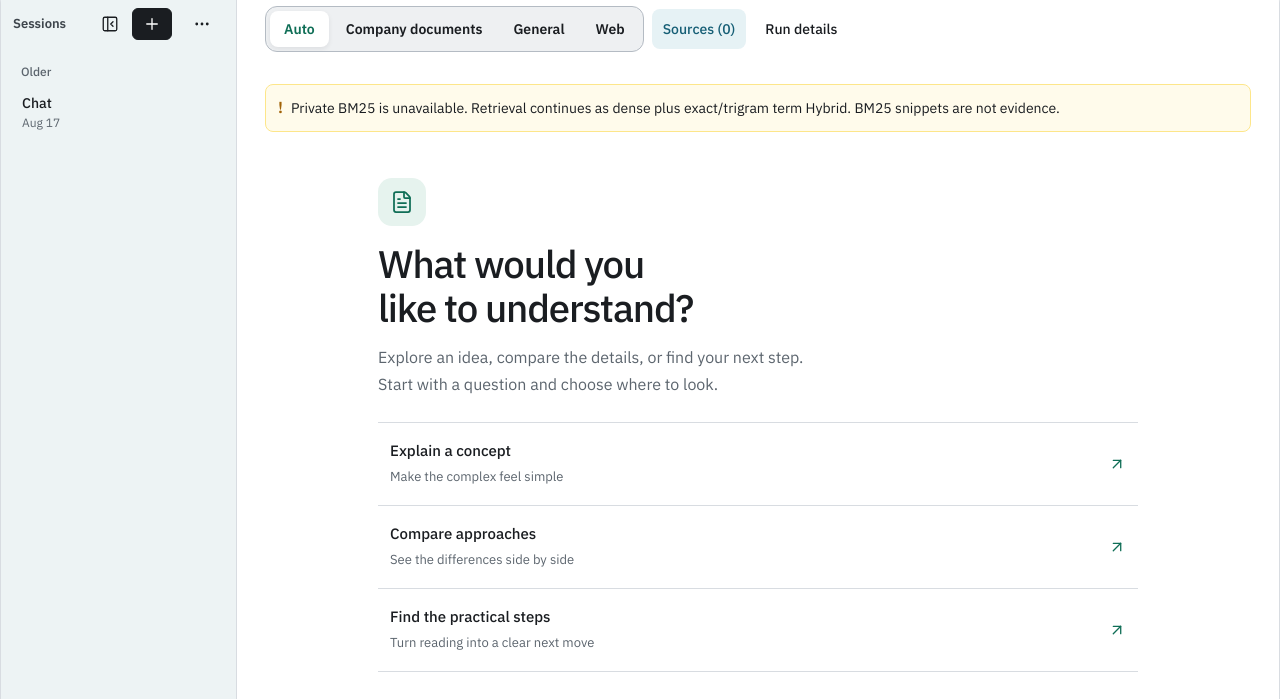
Test: ChatApp SSE limitation families and reconnect › New clears an active run and its reconnect state
Click the button "Chat Aug 17" at (118, 112), box [13,84,224,140]
(page scrolled)
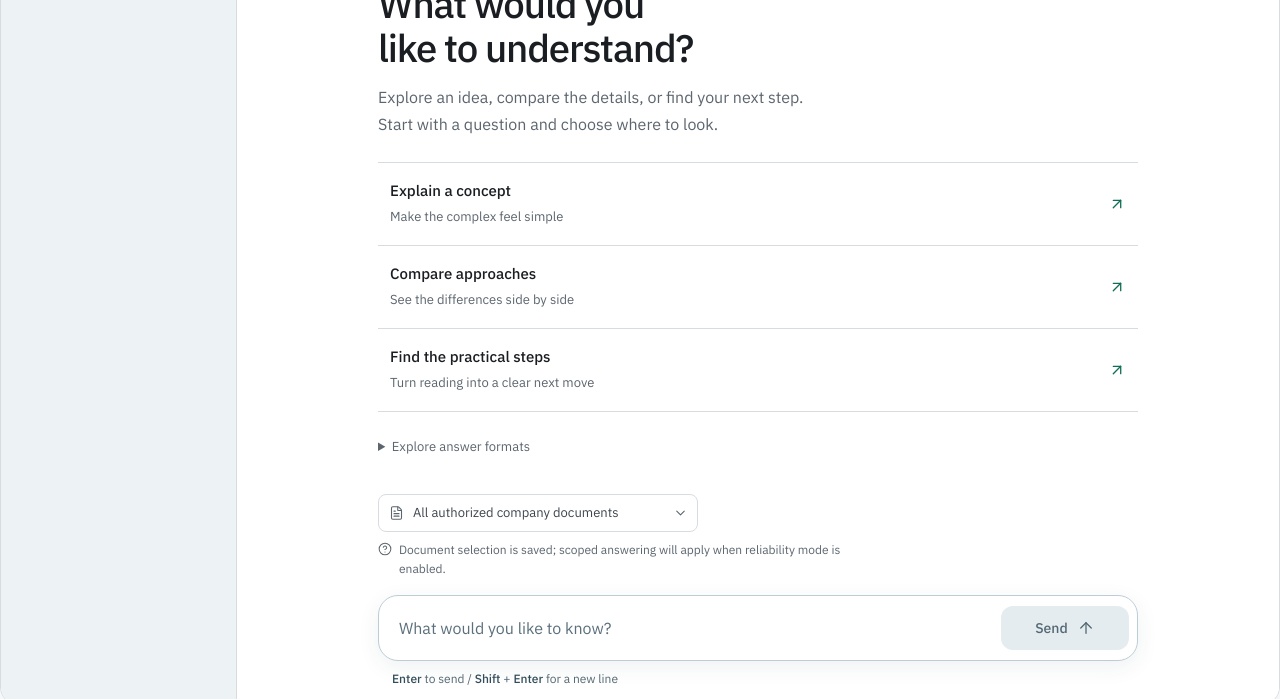
Type "hello" into the text box named "Message" at (688, 628), box [387,604,989,652]
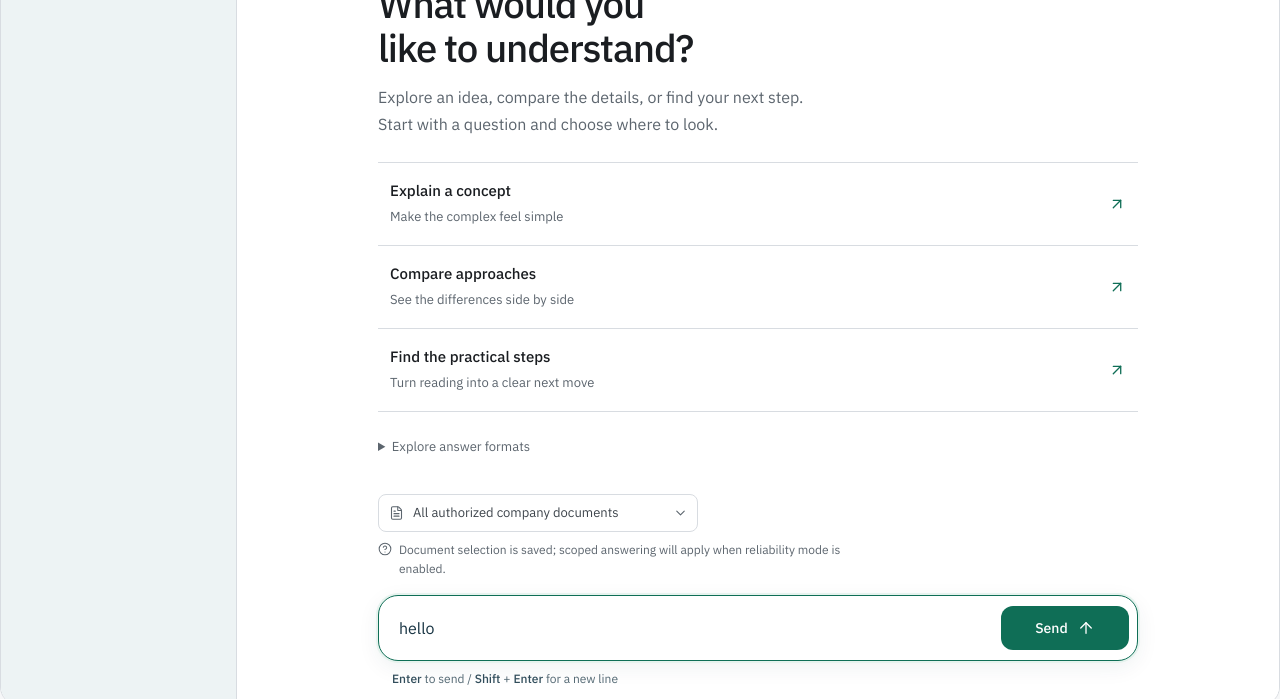
Click the button "Send" at (1065, 628), box [1001,606,1129,650]
(page scrolled)
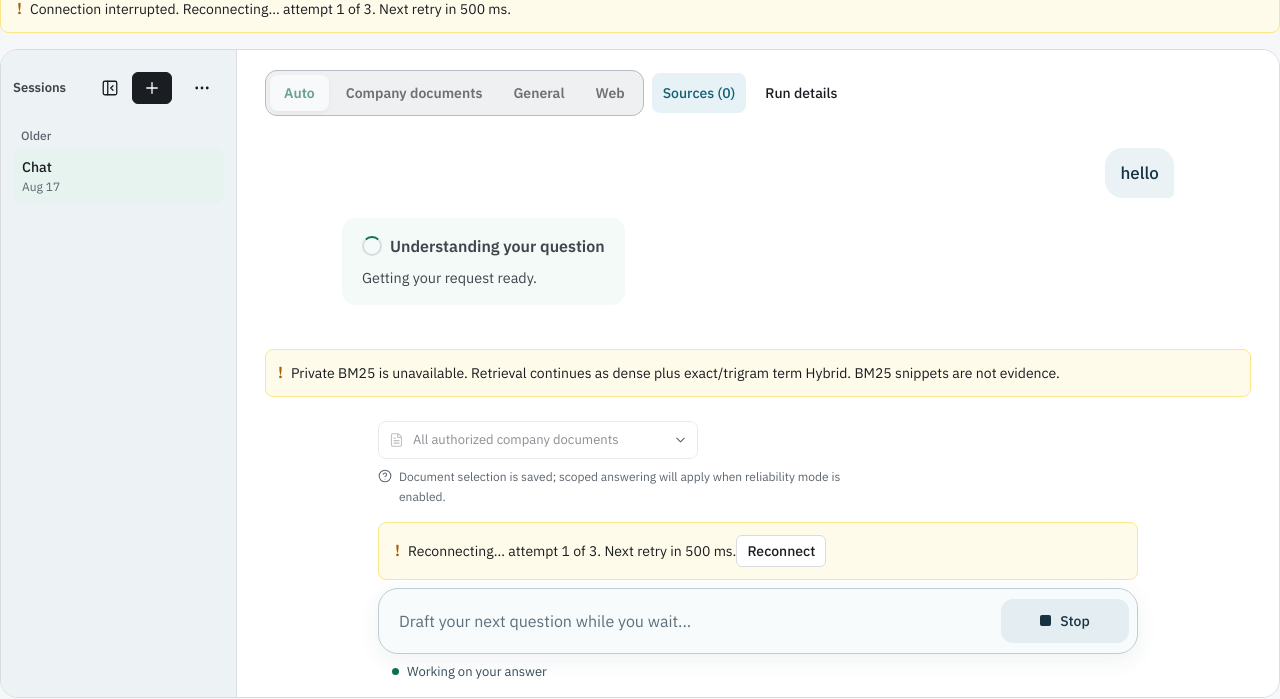
Click the button named "New chat" at (152, 88), box [132,72,172,104]
(page scrolled)
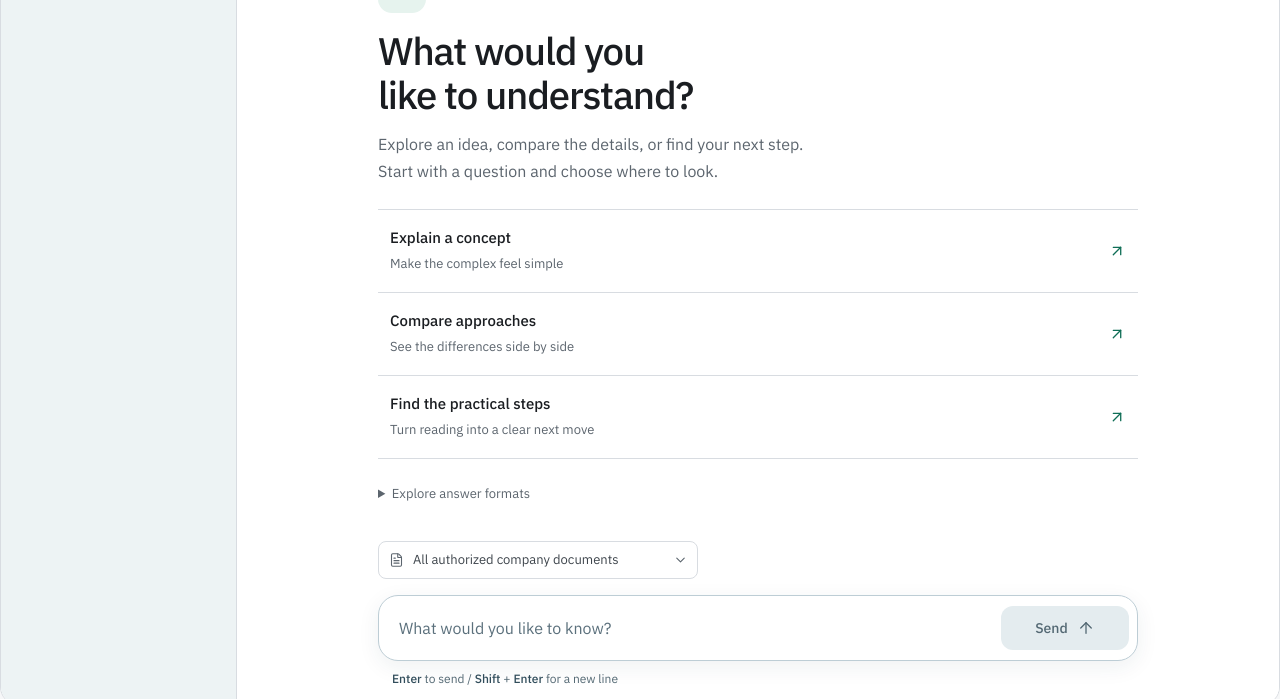
Expected: the text box named "Message" is empty, [387,604,989,652]
Expected: the text "Reconnecting" is not shown
Expected: the button "Stop" is gone
